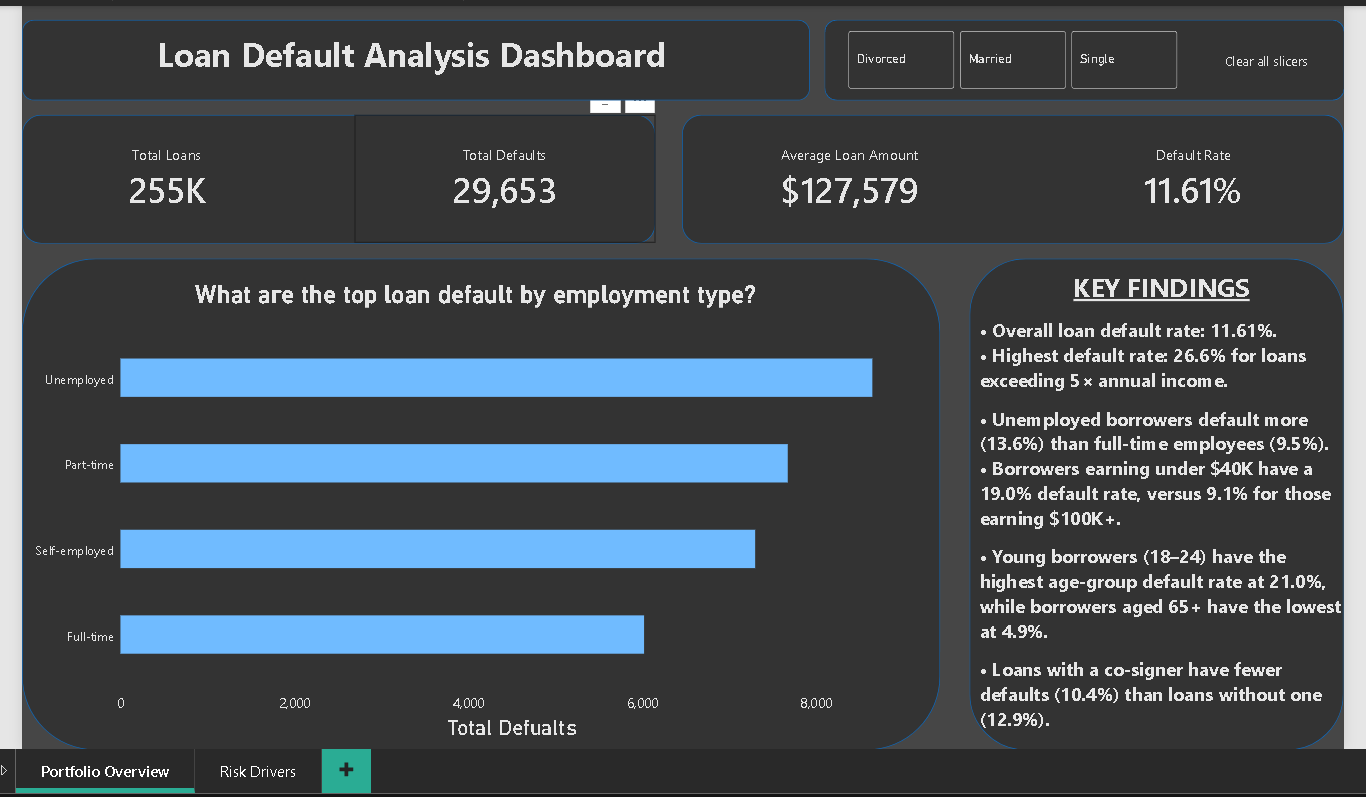

The dashboard page shown, as its layout file describes it:
{"tool":"powerbi","page":{"name":"Portfolio Overview","canvas":[1920,1080],"ordinal":0},"visuals":[{"type":"shape","box":[1165,20.6,755.4,117.3],"z":0},{"type":"shape","box":[0,158.5,920.1,187.3],"z":1000},{"type":"shape","box":[959.2,158.5,961.2,187.3],"z":2000},{"type":"shape","box":[0,366.4,1333.8,714.2],"z":3000},{"type":"cardVisual","fields":{"Data":["CountNonNull(loan_clean.LoanID)"]},"box":[0,158.5,422,187.3],"z":4000},{"type":"barChart","title":"What are the top loan default by employment type?","fields":{"Category":["loan_clean.EmploymentType"],"Y":["Sum(loan_clean.default_flag)"]},"box":[0,382.8,1319.4,697.8],"z":5000},{"type":"cardVisual","fields":{"Data":["Sum(loan_clean.default_flag)"]},"box":[483.7,158.5,436.4,187.3],"z":6000},{"type":"cardVisual","fields":{"Data":["_Measures.Default Rate"]},"box":[1484.1,158.5,436.4,187.3],"z":7000},{"type":"cardVisual","fields":{"Data":["Avg(loan_clean.LoanAmount)"]},"box":[983.9,158.5,436.4,187.3],"z":8000},{"type":"shape","box":[0,20.6,1144.4,117.3],"z":9000},{"type":"textbox","box":[0,37,1144.4,100.9],"z":10000},{"type":"advancedSlicerVisual","title":"Select Marital Status","fields":{"Values":["loan_clean.MaritalStatus"]},"box":[1200,37,479.6,84.4],"z":11000},{"type":"actionButton","box":[1702.2,55.6,212,49.4],"z":12000},{"type":"shape","box":[1377,366.4,543.4,714.2],"z":13000},{"type":"textbox","box":[1390.7,382.4,528.9,698.2],"z":13001}]}

Visuals, with their boxes on the page's 1920x1080 design canvas (x1, y1, x2, y2). These are canvas units, not pixel positions in the 1366x797 screenshot, which may show the page scaled, cropped or inside an application window:
shape: (1165, 21, 1920, 138)
shape: (0, 158, 920, 346)
shape: (959, 158, 1920, 346)
shape: (0, 366, 1334, 1081)
cardVisual - CountNonNull(loan_clean.LoanID): (0, 158, 422, 346)
"What are the top loan default by employment type?" barChart: (0, 383, 1319, 1081)
cardVisual - Sum(loan_clean.default_flag): (484, 158, 920, 346)
cardVisual - _Measures.Default Rate: (1484, 158, 1920, 346)
cardVisual - Avg(loan_clean.LoanAmount): (984, 158, 1420, 346)
shape: (0, 21, 1144, 138)
textbox: (0, 37, 1144, 138)
"Select Marital Status" advancedSlicerVisual: (1200, 37, 1680, 121)
actionButton: (1702, 56, 1914, 105)
shape: (1377, 366, 1920, 1081)
textbox: (1391, 382, 1920, 1081)
